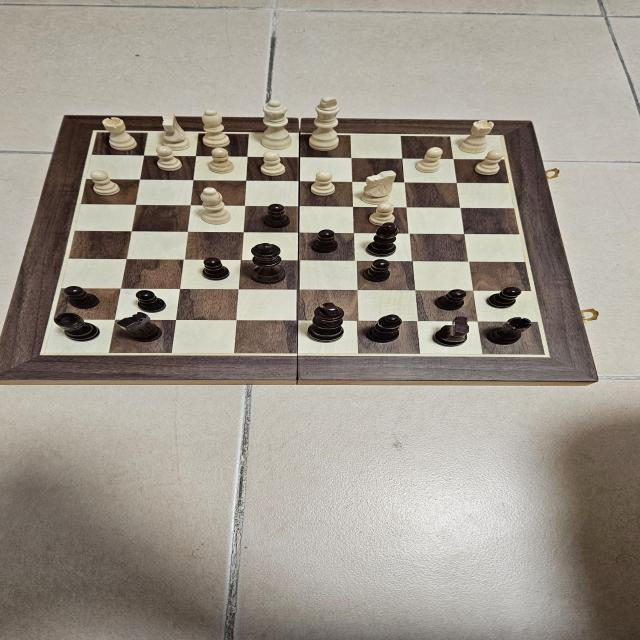chess-table-corners: (35, 350, 55, 358), (493, 132, 508, 140), (538, 352, 554, 359), (87, 128, 103, 134)
